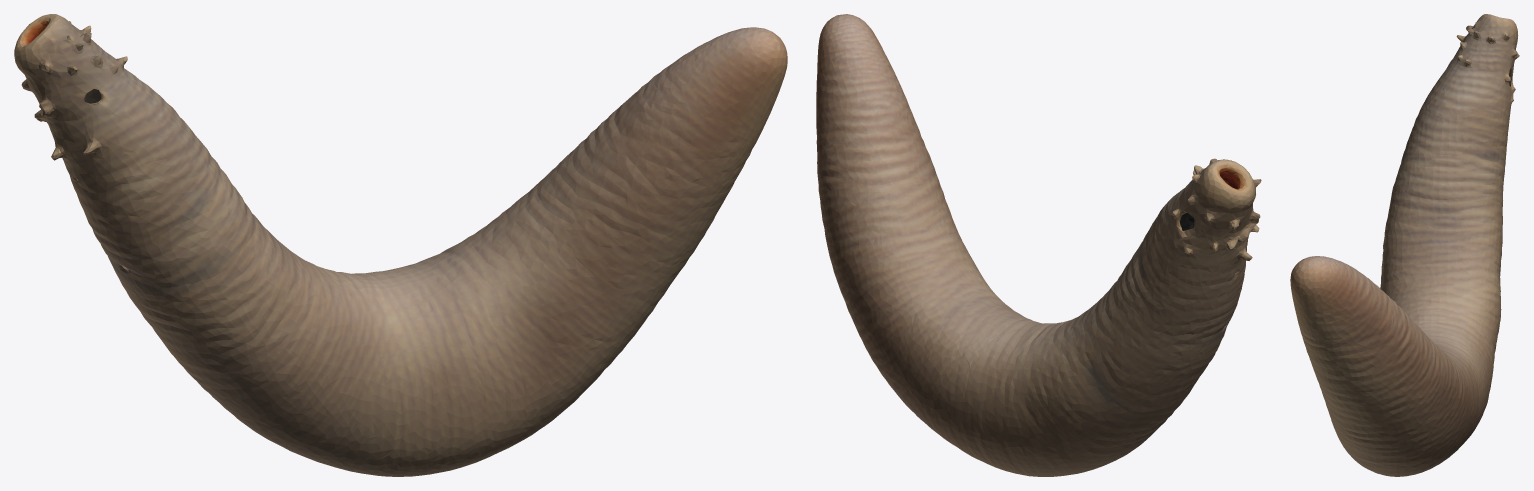
3 views of the same model, side by side, from view 1: azimuth 30°, elevation 25°; view 2: azimuth 150°, elevation 25°; view 3: azimuth 270°, elevation 25° (orthographic). The views are drawn at different scales.
Parts seen in each view (by area): view 1: world; view 2: world; view 3: world.
Part boxes in pixels (x1,y1,x2,y2): world: (14, 14, 787, 476); world: (816, 14, 1261, 476); world: (1290, 14, 1519, 476).
Size of the model in its own units: 0.9938 by 0.7119 by 0.4331.
Materials: 1 (1 with a texture image).
